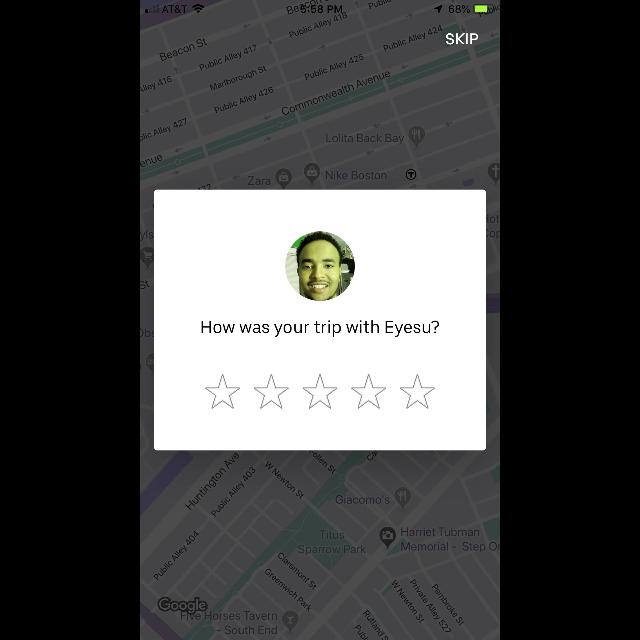icon: (205, 374, 435, 411)
image: (285, 232, 355, 300)
panel: (154, 190, 486, 450)
text: (201, 320, 439, 338), (446, 33, 478, 45)
